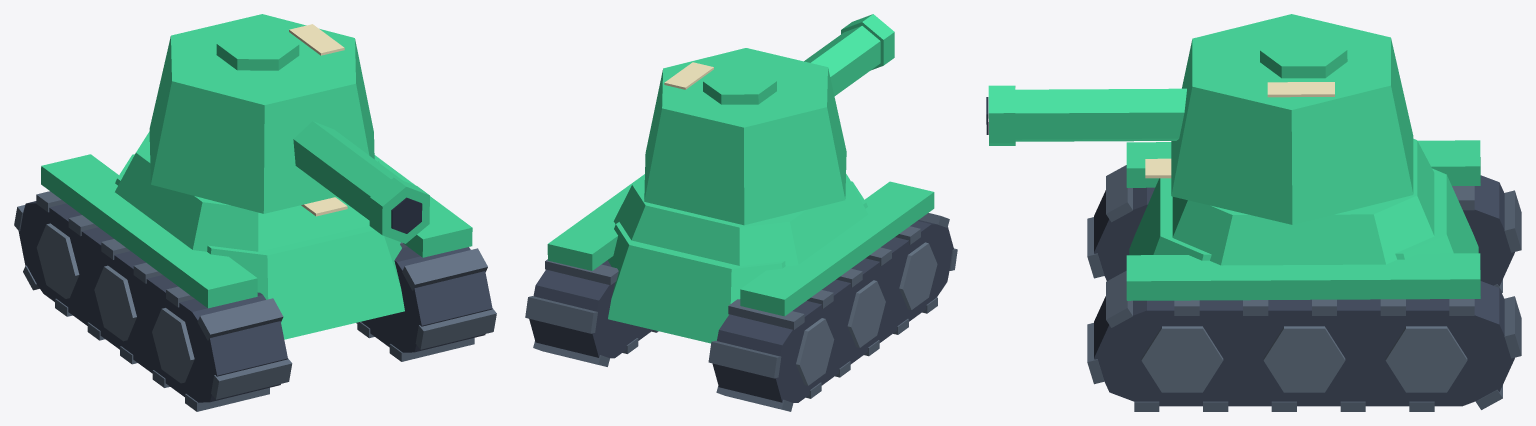
File: tank_02_mint_cruiser.glb
3 renders of one model, left to right at view 1: azimuth 30°, elevation 25°; view 2: azimuth 150°, elevation 25°; view 3: azimuth 270°, elevation 25°, orthographic. The views are drawn at different scales.
Parts seen in each view (by area): view 1: 02 | Faceted turret.001, 02 | Track belt.001, 02 | Lower hull.002, 02 | Track guard.001, 02 | Upper deck.002, 02 | Track belt.004, 02 | Cannon tube.002, 02 | Commander hatch.002, 02 | Track guard.004, 02 | Muzzle rim.002, 02 | Road wheel.002, 02 | Road wheel.001 (+10 smaller); view 2: 02 | Faceted turret.001, 02 | Track belt.001, 02 | Lower hull.002, 02 | Upper deck.002, 02 | Track guard.001, 02 | Track belt.004, 02 | Track guard.004, 02 | Cannon tube.002, 02 | Commander hatch.002, 02 | Road wheel.002, 02 | Road wheel.003, 02 | Road wheel.001 (+8 smaller); view 3: 02 | Faceted turret.001, 02 | Track belt.004, 02 | Track guard.004, 02 | Upper deck.002, 02 | Cannon tube.002, 02 | Track belt.001, 02 | Lower hull.002, 02 | Road wheel.004, 02 | Road wheel.005, 02 | Road wheel.012, 02 | Track guard.001, 02 | Commander hatch.002 (+9 smaller).
Boxes of the visible parts, bbox=[...] form: 02 | Faceted turret.001: bbox=[149, 14, 374, 213]; 02 | Track belt.001: bbox=[18, 201, 287, 402]; 02 | Lower hull.002: bbox=[115, 154, 404, 339]; 02 | Track guard.001: bbox=[41, 154, 257, 308]; 02 | Upper deck.002: bbox=[115, 131, 379, 251]; 02 | Track belt.004: bbox=[356, 247, 492, 352]; 02 | Cannon tube.002: bbox=[293, 121, 402, 220]; 02 | Commander hatch.002: bbox=[216, 28, 299, 70]; 02 | Track guard.004: bbox=[374, 155, 472, 257]; 02 | Muzzle rim.002: bbox=[369, 177, 429, 243]; 02 | Road wheel.002: bbox=[94, 265, 136, 341]; 02 | Road wheel.001: bbox=[152, 308, 194, 383]; 02 | Faceted turret.001: bbox=[644, 48, 846, 225]; 02 | Track belt.001: bbox=[712, 220, 953, 402]; 02 | Lower hull.002: bbox=[607, 181, 867, 343]; 02 | Upper deck.002: bbox=[613, 174, 868, 266]; 02 | Track guard.001: bbox=[740, 181, 934, 316]; 02 | Track belt.004: bbox=[529, 260, 652, 358]; 02 | Track guard.004: bbox=[547, 174, 644, 270]; 02 | Cannon tube.002: bbox=[804, 26, 880, 96]; 02 | Commander hatch.002: bbox=[703, 68, 776, 104]; 02 | Road wheel.002: bbox=[847, 280, 885, 347]; 02 | Road wheel.003: bbox=[796, 318, 834, 385]; 02 | Road wheel.001: bbox=[899, 242, 937, 309]; 02 | Faceted turret.001: bbox=[1171, 14, 1413, 224]; 02 | Track belt.004: bbox=[1094, 281, 1514, 406]; 02 | Track guard.004: bbox=[1126, 253, 1480, 300]; 02 | Upper deck.002: bbox=[1172, 138, 1434, 265]; 02 | Cannon tube.002: bbox=[1015, 88, 1186, 141]; 02 | Track belt.001: bbox=[1094, 175, 1514, 286]; 02 | Lower hull.002: bbox=[1129, 168, 1478, 260]; 02 | Road wheel.004: bbox=[1141, 326, 1223, 392]; 02 | Road wheel.005: bbox=[1263, 326, 1345, 392]; 02 | Road wheel.012: bbox=[1385, 326, 1467, 392]; 02 | Track guard.001: bbox=[1126, 140, 1480, 187]; 02 | Commander hatch.002: bbox=[1260, 33, 1347, 78].
Bounding box in the file's own units: 1.44 × 1.34 × 2.22.
